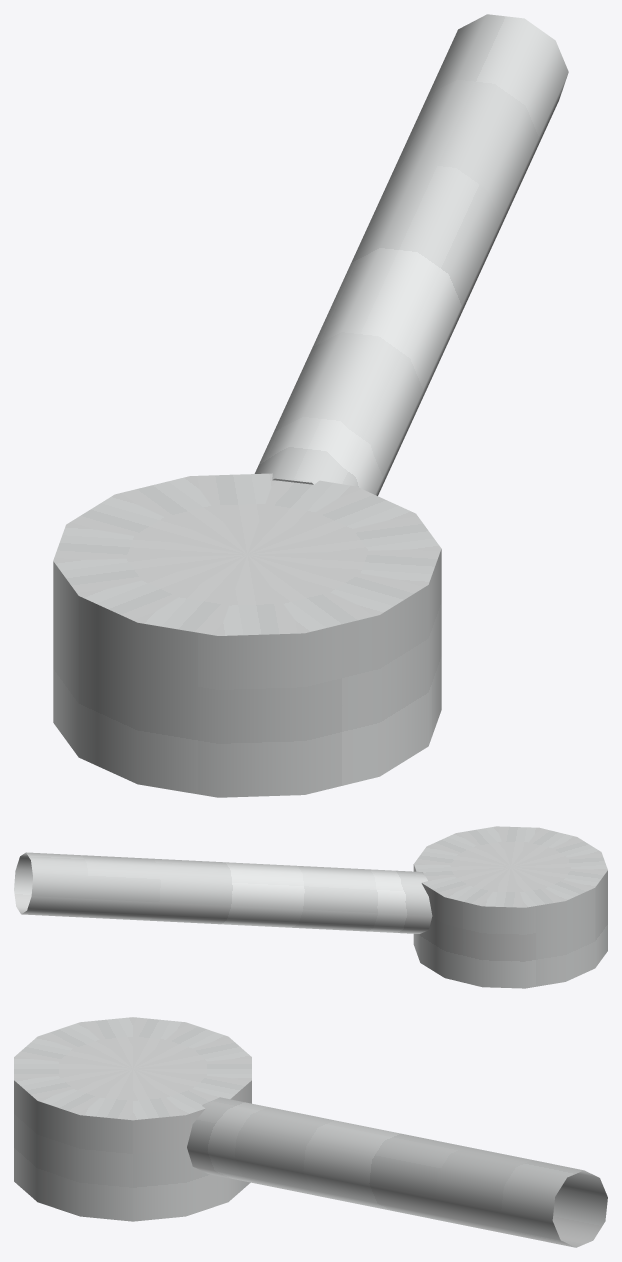
The model's file is trusssignalarm_diagonal5_c1.obj.
3 renders of one model, top to bottom at view 1: azimuth 30°, elevation 25°; view 2: azimuth 150°, elevation 25°; view 3: azimuth 270°, elevation 25°, orthographic. The views are drawn at different scales.
Visible parts, largest first — view 1: trusssignalarm_diagonal5_c1; view 2: trusssignalarm_diagonal5_c1; view 3: trusssignalarm_diagonal5_c1.
Boxes of the visible parts, <box> form: trusssignalarm_diagonal5_c1: <box>53,14,568,797</box>; trusssignalarm_diagonal5_c1: <box>14,826,607,988</box>; trusssignalarm_diagonal5_c1: <box>14,1017,607,1247</box>.
Size of the model in its own units: 2 by 0.678 by 1.99.
